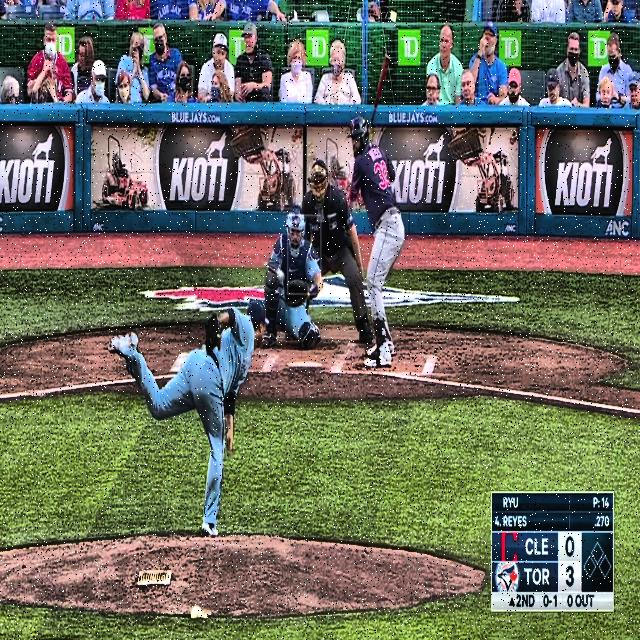baseball: (276, 268, 286, 282)
